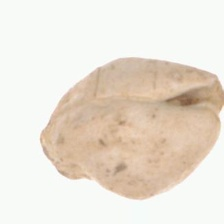L1: (171, 63, 224, 139), (39, 125, 83, 181)
L2: (39, 56, 224, 203)
